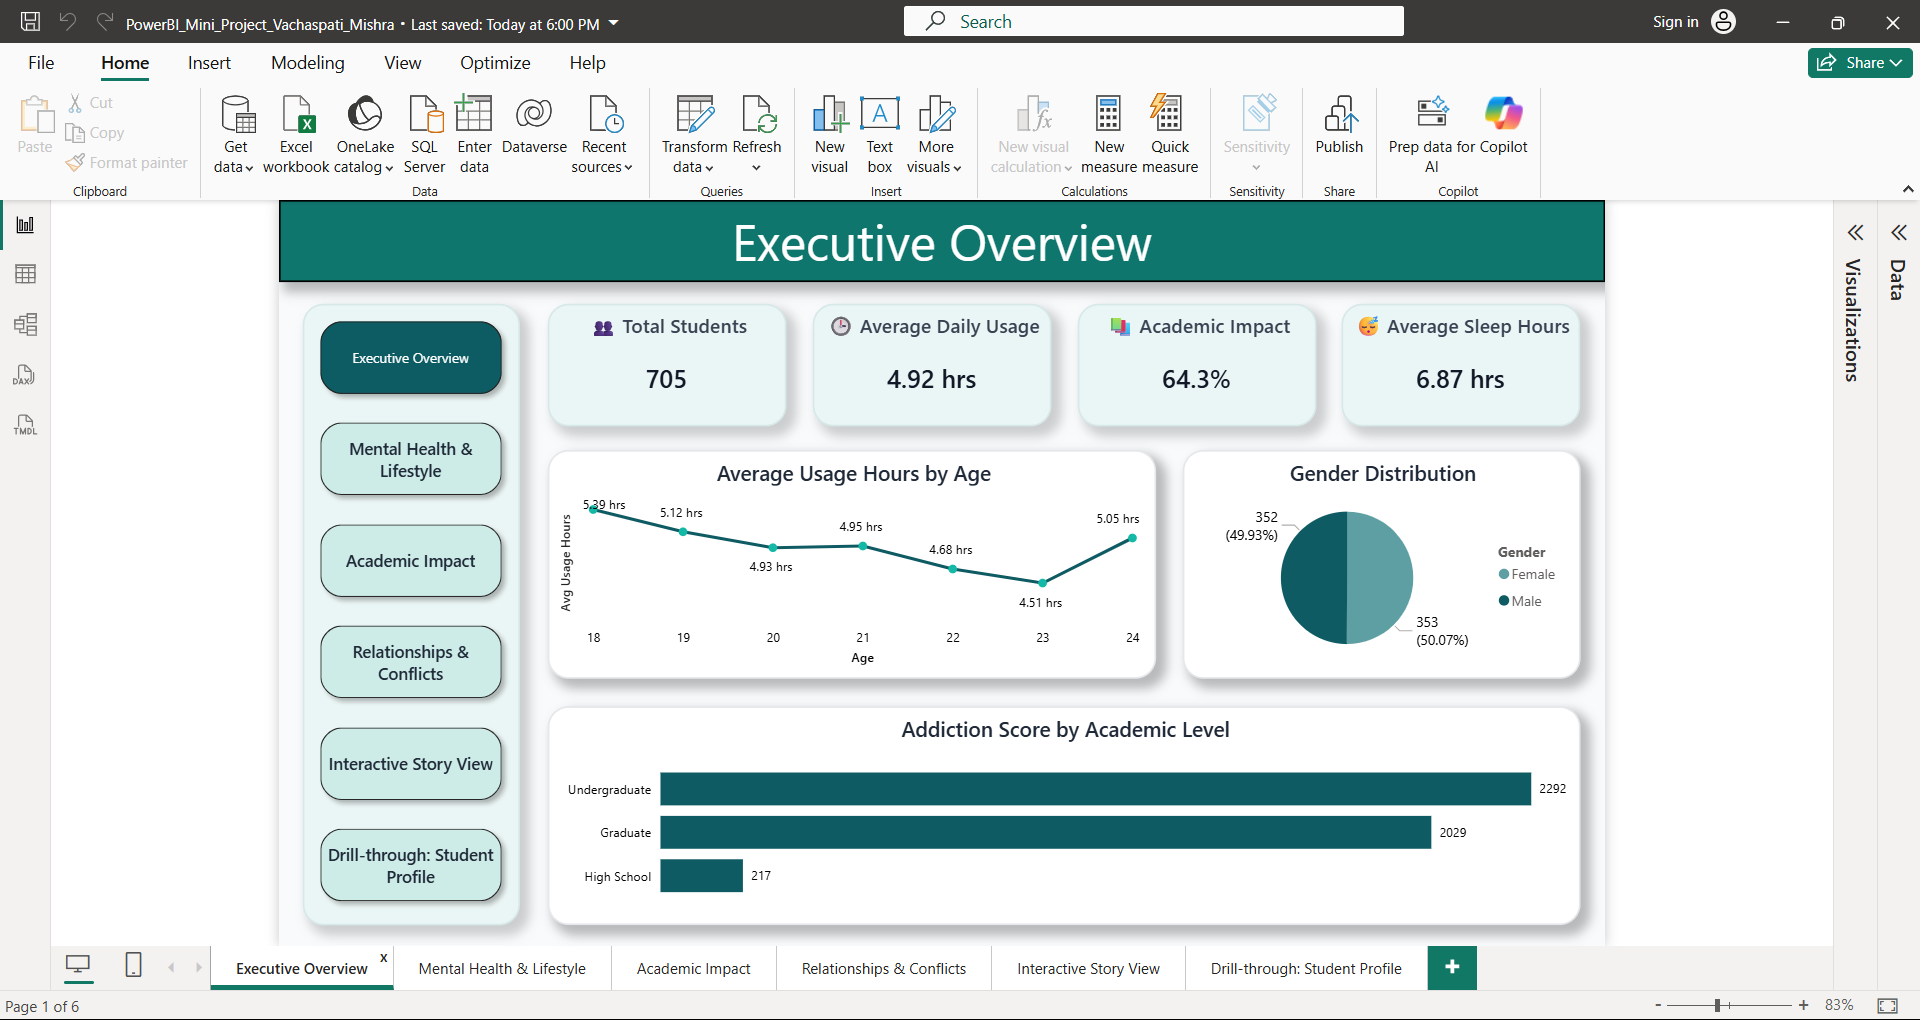

This screenshot's page, from the dashboard's own definition file:
{"tool":"powerbi","page":{"name":"Executive Overview","canvas":[1280,720],"ordinal":0},"visuals":[{"type":"textbox","box":[0,0,1280.3,79.5],"z":0},{"type":"cardVisual","title":"👥 Total Students","fields":{"Data":["CountNonNull(Student Details.Student_ID)"]},"box":[259.4,100.1,230.4,118.2],"z":1000},{"type":"cardVisual","title":"🕒 Average Daily Usage","fields":{"Data":["Student Details.Avg Usage Hours"]},"box":[515.2,100.1,230.4,118.2],"z":2000},{"type":"cardVisual","title":"📚 Academic Impact","fields":{"Data":["Student Details.% Affected Academically"]},"box":[770.9,100.1,230.4,118.2],"z":3000},{"type":"cardVisual","title":"😴 Average Sleep Hours","fields":{"Data":["Student Details.Avg Sleep Hours"]},"box":[1025.5,100.1,230.4,118.2],"z":4000},{"type":"clusteredBarChart","title":"Addiction Score by Academic Level","fields":{"Category":["Student Details.Academic_Level"],"Y":["Sum(Student Details.Addicted_Score)"]},"box":[259.4,488.6,996.5,211.1],"z":5000},{"type":"lineChart","title":"Average Usage Hours by Age","fields":{"Y":["Student Details.Avg Usage Hours"],"Category":["Student Details.Age"]},"box":[259.4,241.3,587.5,220.8],"z":6000},{"type":"pieChart","title":"Gender Distribution","fields":{"Category":["Student Details.Gender"],"Y":["CountNonNull(Student Details.Gender)"]},"box":[872.3,241.3,383.6,220.8],"z":7000},{"type":"pageNavigator","box":[22.9,100.1,209.9,599.6],"z":8000}]}

Visuals, with their boxes on the page's 1280x720 design canvas (x1, y1, x2, y2). These are canvas units, not pixel positions in the 1920x1020 screenshot, which may show the page scaled, cropped or inside an application window:
textbox: BBox(0, 0, 1280, 80)
"👥 Total Students" cardVisual: BBox(259, 100, 490, 218)
"🕒 Average Daily Usage" cardVisual: BBox(515, 100, 746, 218)
"📚 Academic Impact" cardVisual: BBox(771, 100, 1001, 218)
"😴 Average Sleep Hours" cardVisual: BBox(1026, 100, 1256, 218)
"Addiction Score by Academic Level" clusteredBarChart: BBox(259, 489, 1256, 700)
"Average Usage Hours by Age" lineChart: BBox(259, 241, 847, 462)
"Gender Distribution" pieChart: BBox(872, 241, 1256, 462)
pageNavigator: BBox(23, 100, 233, 700)
